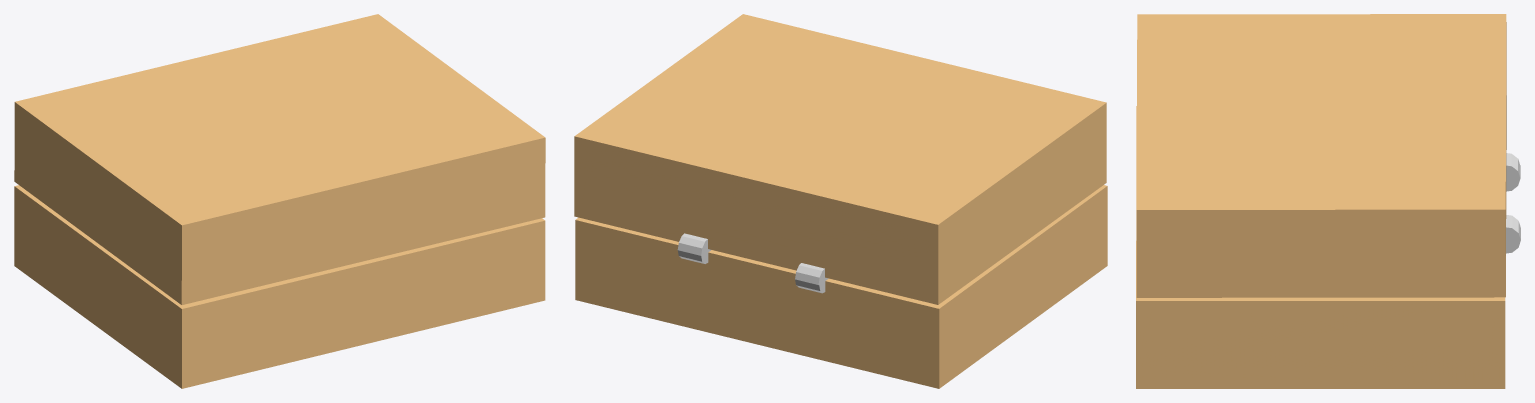
The model's file is cajita.fbx.
3 renders of one model, left to right at view 1: azimuth 30°, elevation 25°; view 2: azimuth 150°, elevation 25°; view 3: azimuth 270°, elevation 25°, orthographic. The views are drawn at different scales.
Visible parts, largest first — view 1: Cube.001, Cube; view 2: Cube.001, Cube, Cylinder; view 3: Cube.001, Cube, Cylinder.
Part boxes in pixels (bbox=[...]): Cube.001: bbox=[14, 14, 545, 304]; Cube: bbox=[14, 185, 545, 388]; Cube.001: bbox=[574, 14, 1106, 304]; Cube: bbox=[575, 185, 1107, 388]; Cylinder: bbox=[677, 233, 828, 293]; Cube.001: bbox=[1136, 14, 1506, 297]; Cube: bbox=[1136, 106, 1505, 388]; Cylinder: bbox=[1506, 153, 1520, 253].
Size of the model in its own units: 118 by 50.56 by 97.82.
